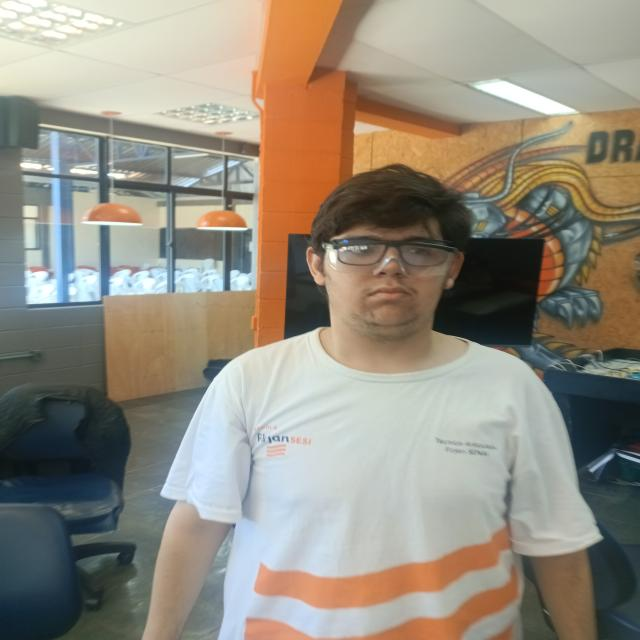oculos-epi: (320, 241, 460, 279)
